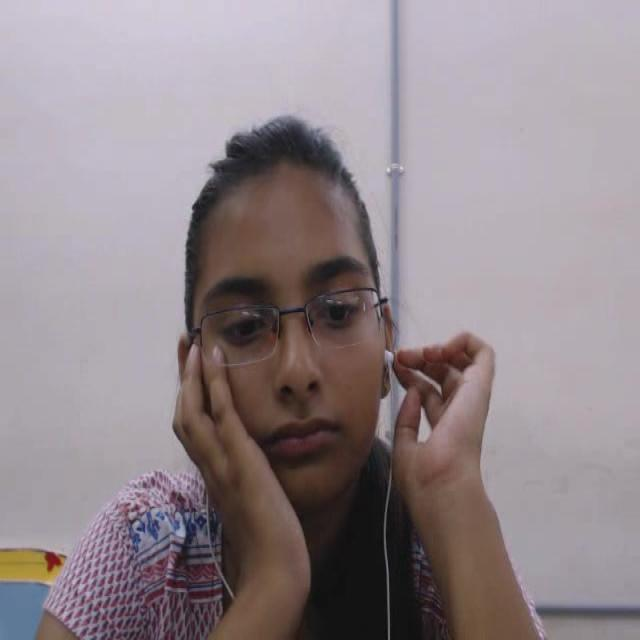Bored: (148, 95, 460, 528)
